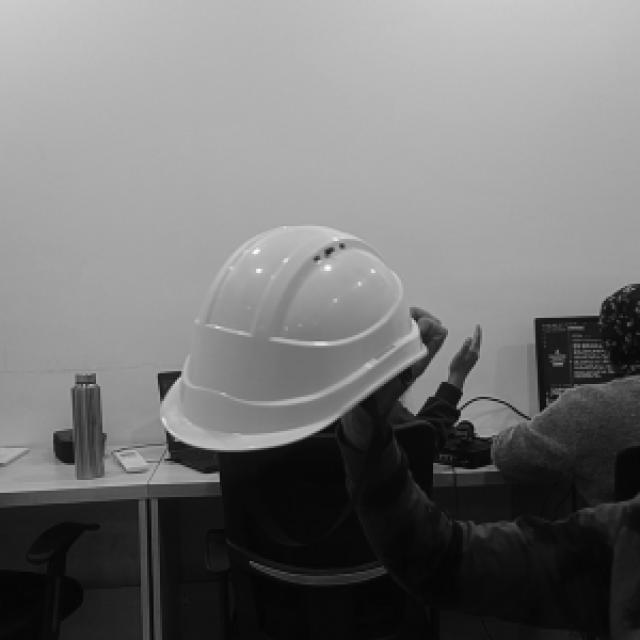safety_helmet: (159, 224, 428, 452)
